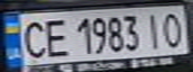1: (72, 15, 93, 55)
3: (121, 11, 145, 52)
8: (106, 12, 127, 53)
9: (90, 13, 109, 55)
C: (18, 17, 51, 60)
E: (39, 16, 69, 58)
I: (142, 10, 169, 51)
O: (157, 9, 190, 48)
